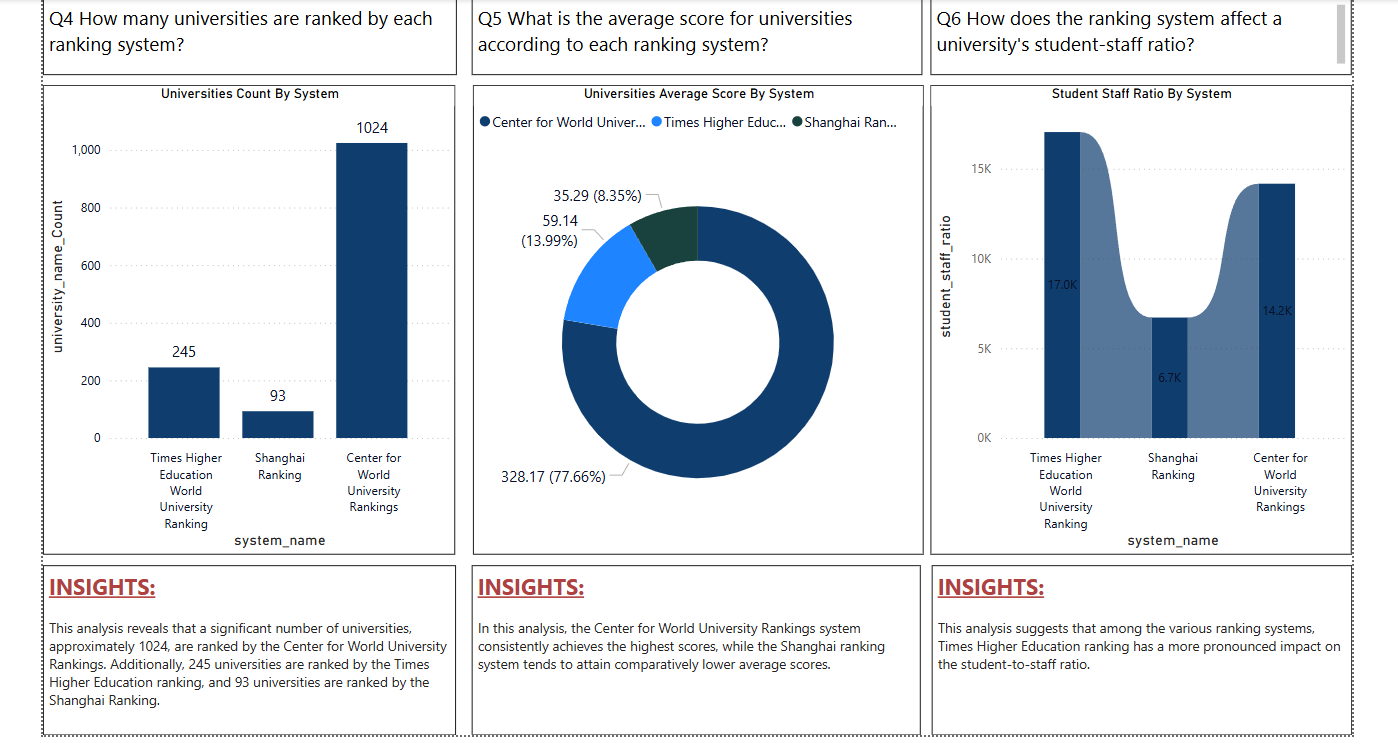

This screenshot's page, from the dashboard's own definition file:
{"tool":"powerbi","page":{"name":"QUE 4,5,6","canvas":[1280,720],"ordinal":5},"visuals":[{"type":"textbox","box":[419.8,0,440.7,74.4],"z":0},{"type":"donutChart","title":"Universities Average Score By System","fields":{"Y":["Avg(university_ranking_year.score)"],"Category":["ranking_system.system_name"]},"box":[420.9,84.9,440.7,459.3],"z":1000},{"type":"textbox","box":[419.4,554.1,439.6,166.7],"z":2000},{"type":"textbox","box":[0,0,404.2,149.9],"z":3000},{"type":"textbox","box":[0,0,404.7,74.4],"z":4000},{"type":"columnChart","title":"Universities Count By System","fields":{"Category":["ranking_system.system_name"],"Y":["CountNonNull(university.university_name)"]},"box":[0,84.9,403.5,459.3],"z":5000},{"type":"textbox","box":[0,554.1,404.2,166.7],"z":6000},{"type":"ribbonChart","title":" Student Staff Ratio By System","fields":{"Category":["ranking_system.system_name"],"Y":["Sum(university_year.student_staff_ratio)"]},"box":[868.6,84.9,411.6,459.3],"z":7000},{"type":"textbox","box":[869,554,411,166],"z":8000},{"type":"textbox","box":[868.6,0,411.6,74.4],"z":9000}]}

Visuals, with their boxes in screenshot pixels (x1, y1, x2, y2):
textbox: l=469, t=0, r=920, b=72
"Universities Average Score By System" donutChart: l=470, t=83, r=921, b=553
textbox: l=469, t=563, r=918, b=733
textbox: l=40, t=0, r=453, b=150
textbox: l=40, t=0, r=454, b=72
"Universities Count By System" columnChart: l=40, t=83, r=453, b=553
textbox: l=40, t=563, r=453, b=733
" Student Staff Ratio By System" ribbonChart: l=928, t=83, r=1349, b=553
textbox: l=928, t=563, r=1349, b=732
textbox: l=928, t=0, r=1349, b=72
